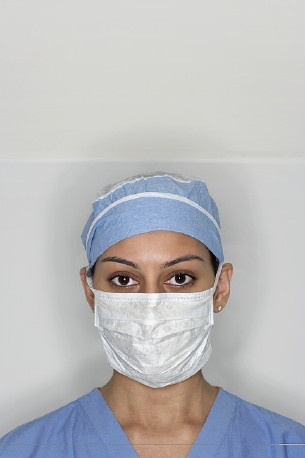Mask: (89, 251, 228, 389)
